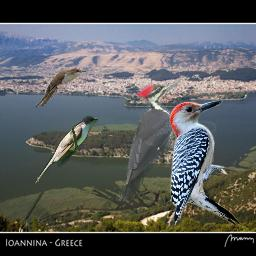Cuckoo: (34, 116, 98, 185), (35, 68, 87, 107)
Woodpecker: (163, 95, 248, 236), (116, 78, 186, 201)
